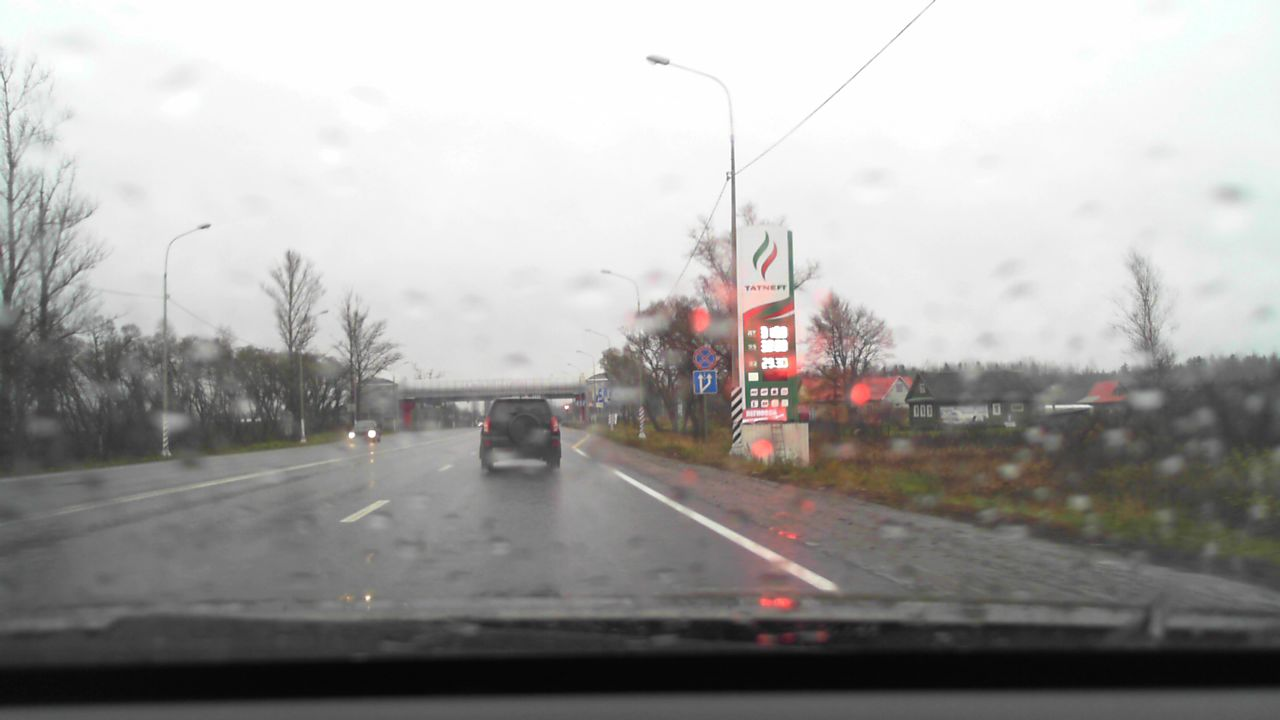No Parking: (692, 346, 717, 370)
